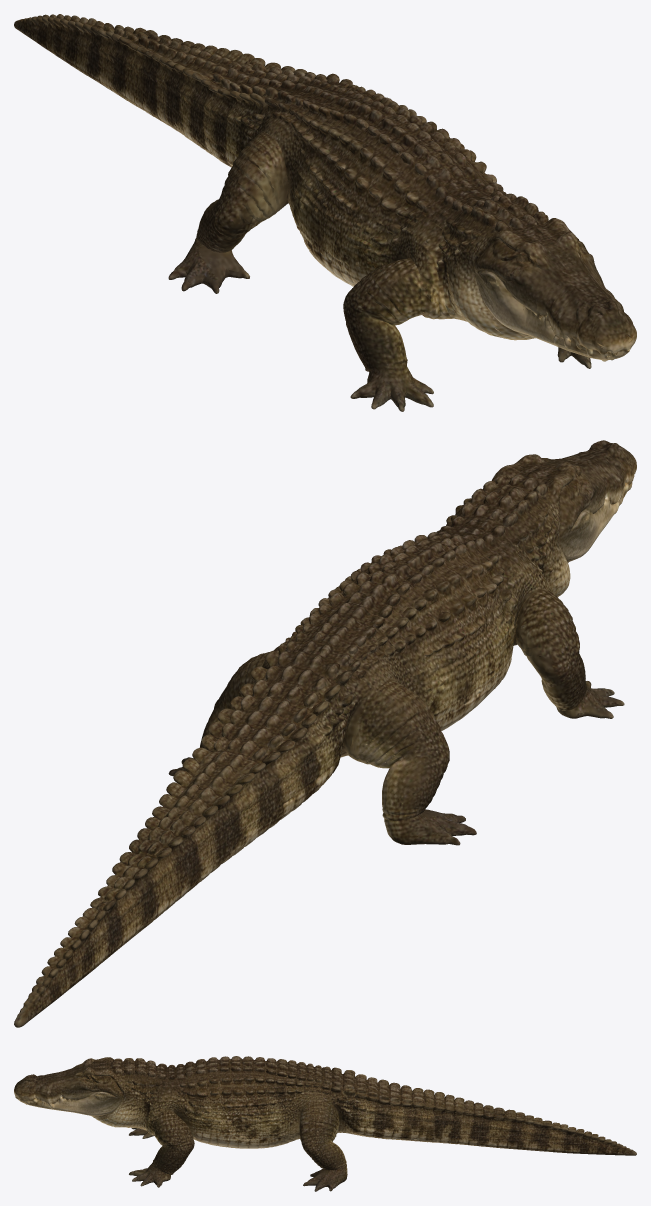
3 renders of one model, top to bottom at view 1: azimuth 30°, elevation 25°; view 2: azimuth 150°, elevation 25°; view 3: azimuth 270°, elevation 25°, orthographic. The views are drawn at different scales.
Parts seen in each view (by area): view 1: Authored orientation; view 2: Authored orientation; view 3: Authored orientation.
Part boxes in pixels (<box>): Authored orientation: <box>14,14,636,411</box>; Authored orientation: <box>14,440,636,1027</box>; Authored orientation: <box>14,1056,636,1191</box>.
Bounding box in the file's own units: 0.2801 × 0.1693 × 1.
1 material, 1 textured.
